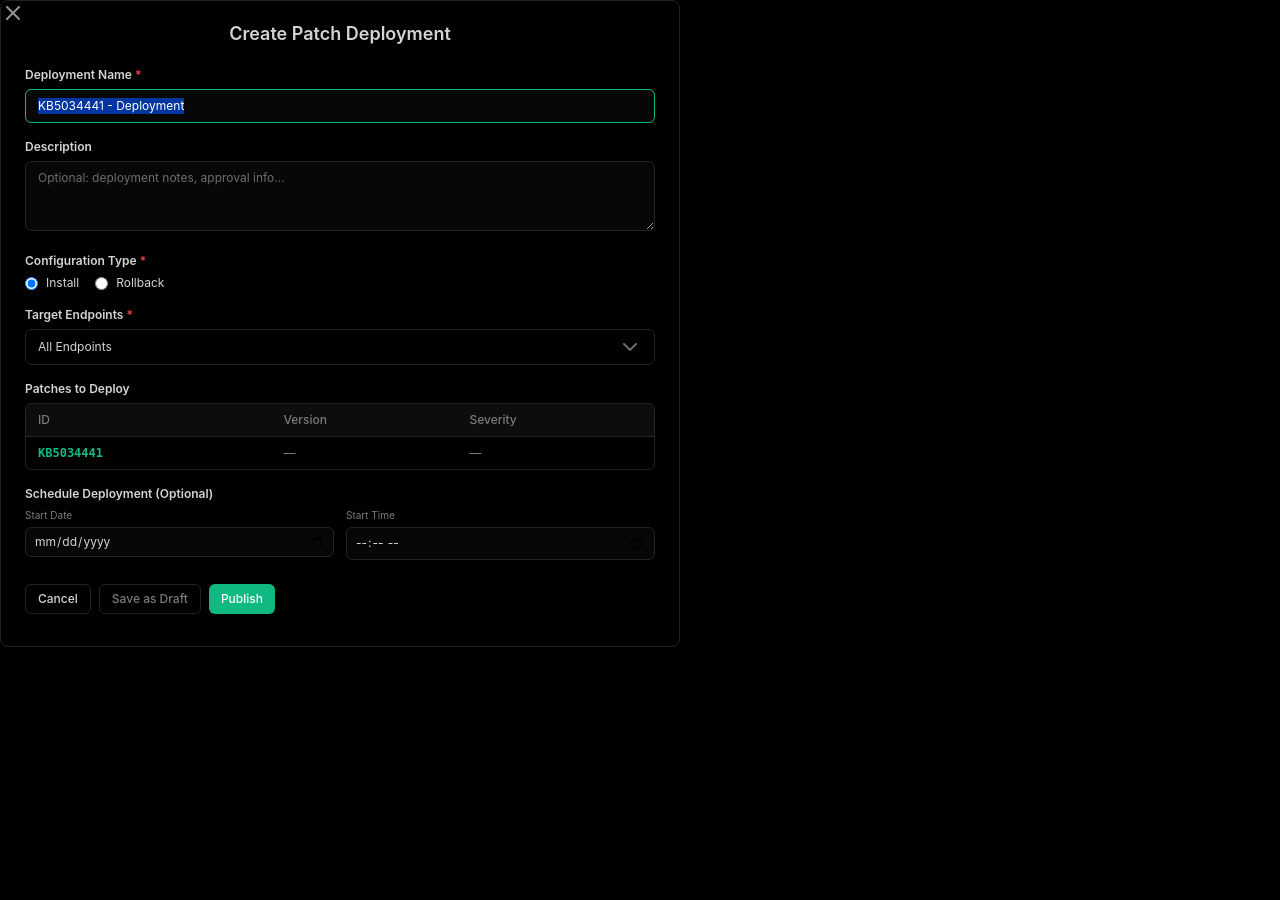
Test: DeploymentModal › shows validation error when name is empty on submit
The width and height of the screenshot is (1280, 900).
Clear the field labelled "Deployment Name *" at (340, 106), box [25,89,655,123]
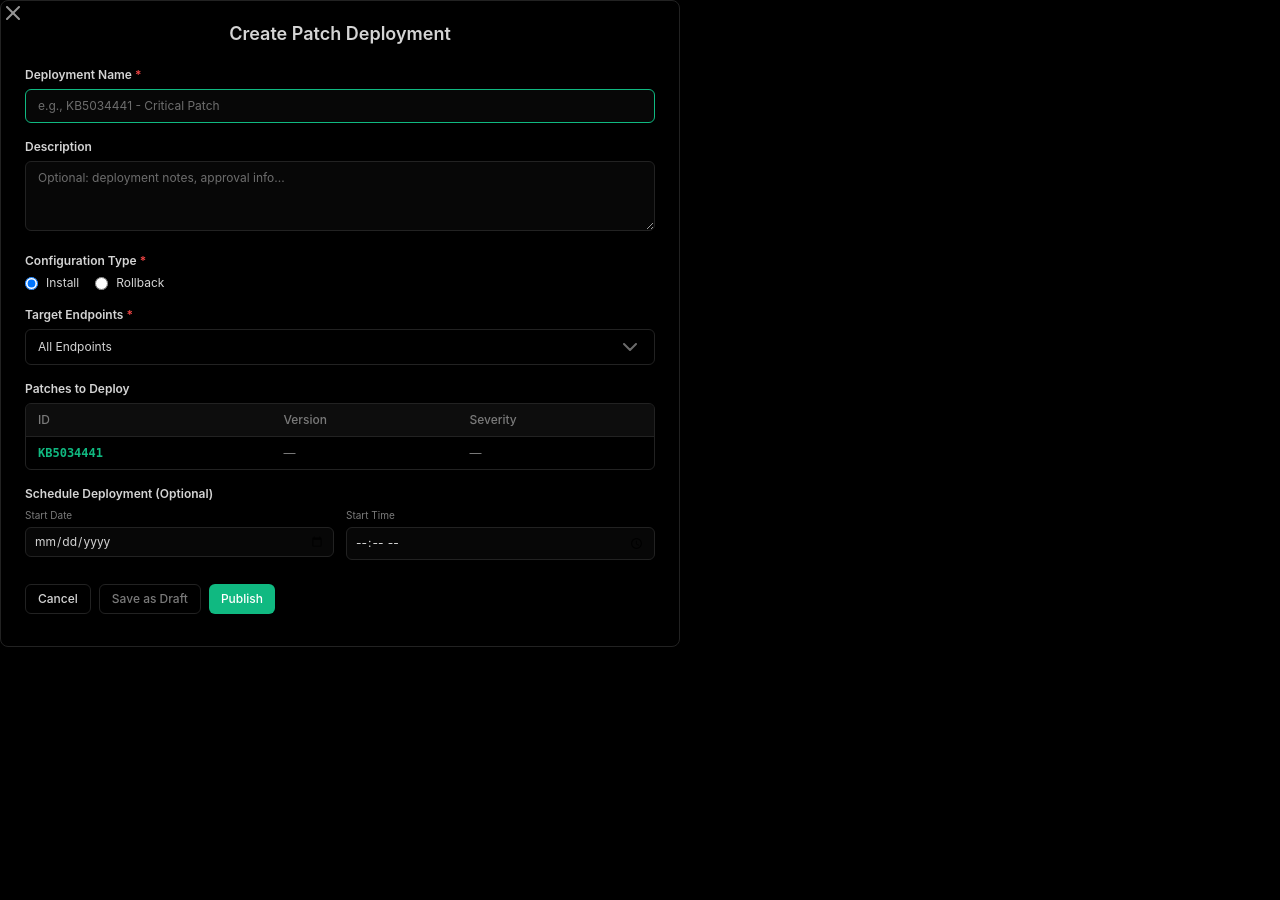
Click the button "Publish" at (242, 599), box [209,584,275,614]
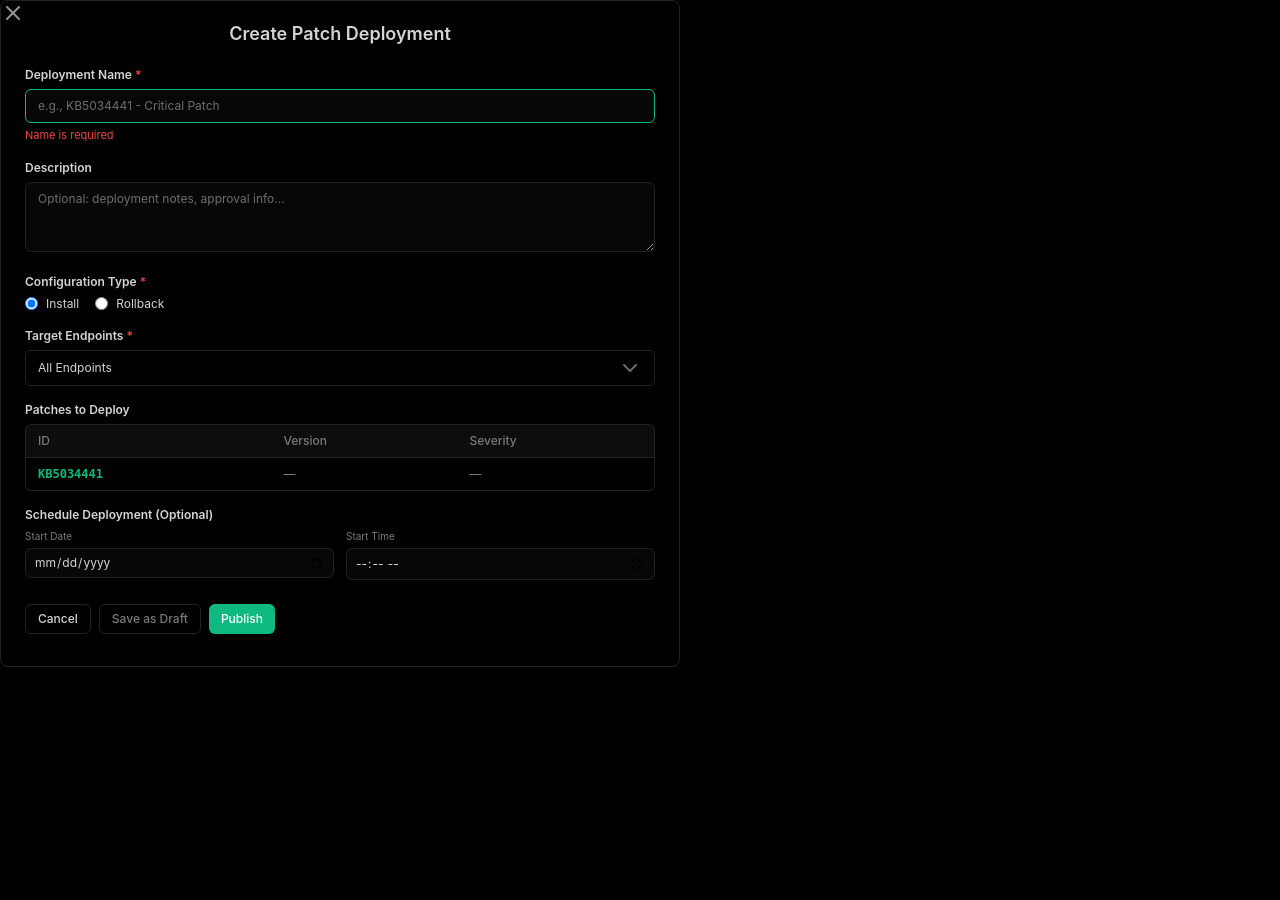
Now the text "Name is required" is shown, box [25,128,114,142]
